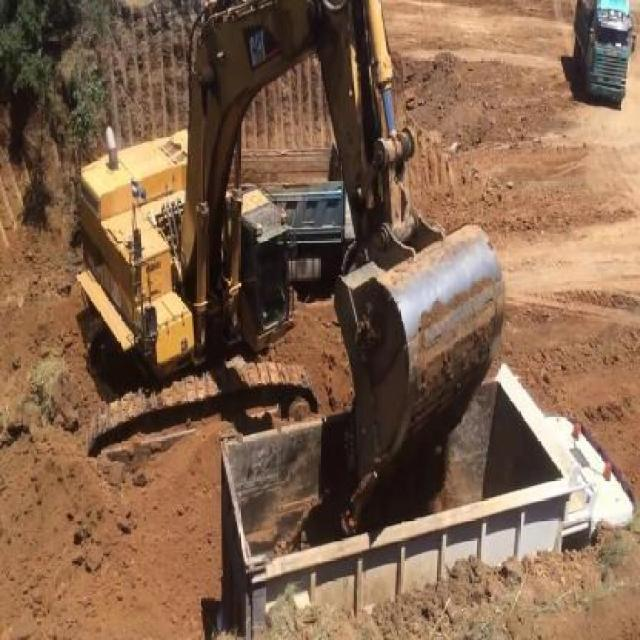Dump Truck: (213, 385, 639, 626), (238, 143, 356, 279), (570, 0, 635, 109)
Excavator: (73, 0, 505, 471)
